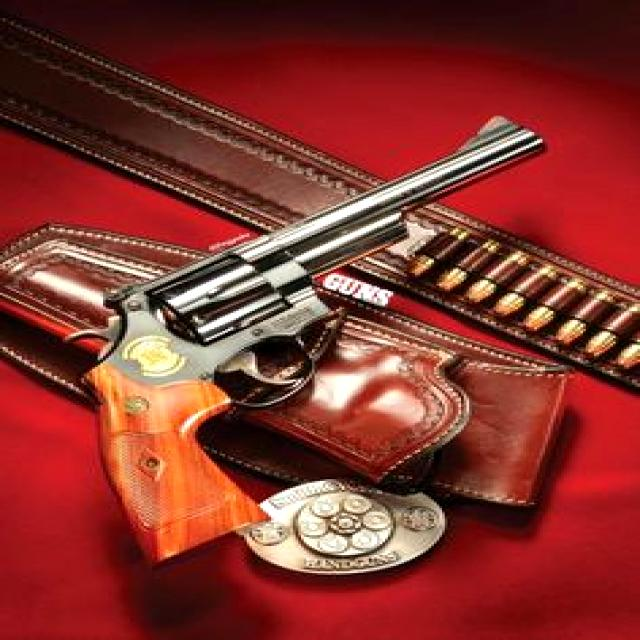revolver: (0, 91, 632, 567)
